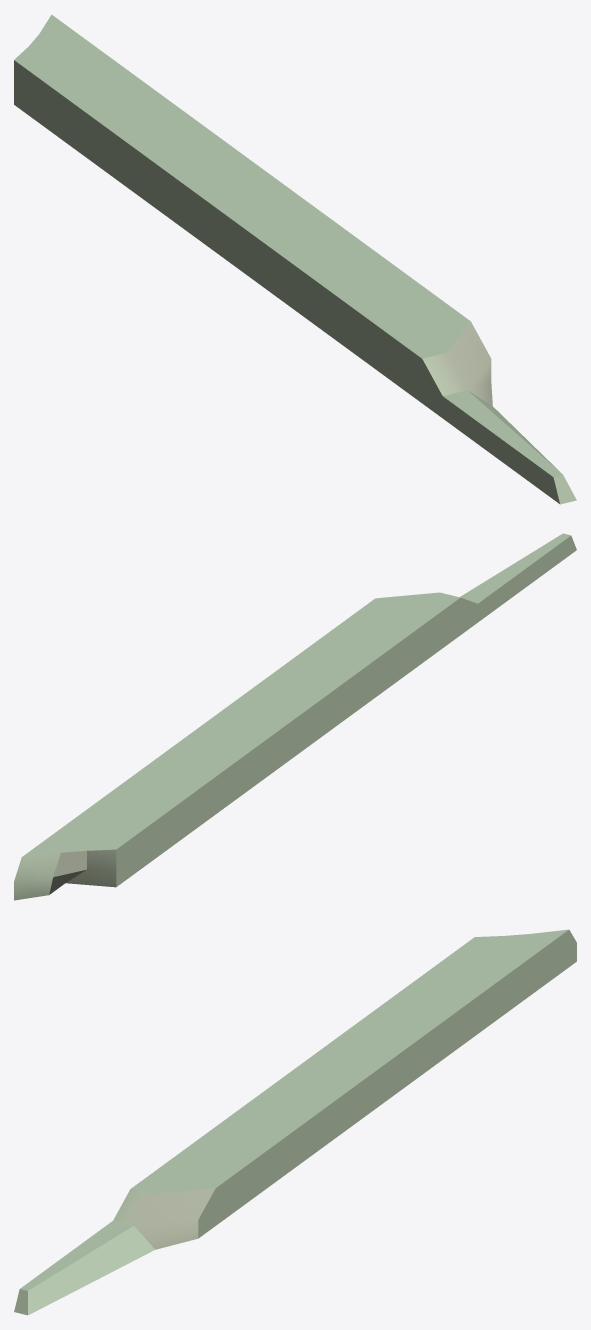
Rendered from geology-crystals-crystalshard_v3.glb.
The picture shows the model from 3 angles, top to bottom: view 1: azimuth 30°, elevation 25°; view 2: azimuth 150°, elevation 25°; view 3: azimuth 330°, elevation 25°; orthographic projection. The views are drawn at different scales.
Visible parts, largest first — view 1: CrystalShard_v3; view 2: CrystalShard_v3; view 3: CrystalShard_v3.
Part boxes in pixels (box(x1,y1,x2,y2)): CrystalShard_v3: box(14, 14, 576, 504); CrystalShard_v3: box(14, 533, 576, 900); CrystalShard_v3: box(14, 929, 576, 1315).
Bounding box in the file's own units: 1.41 × 0.8034 × 19.29.
